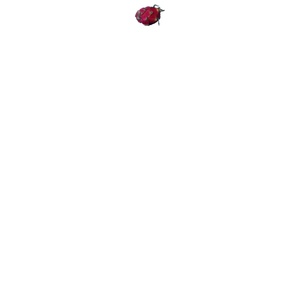pitaia: (136, 5, 161, 27)
